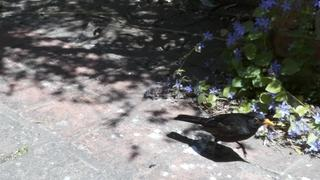blackbird: (173, 112, 274, 161)
